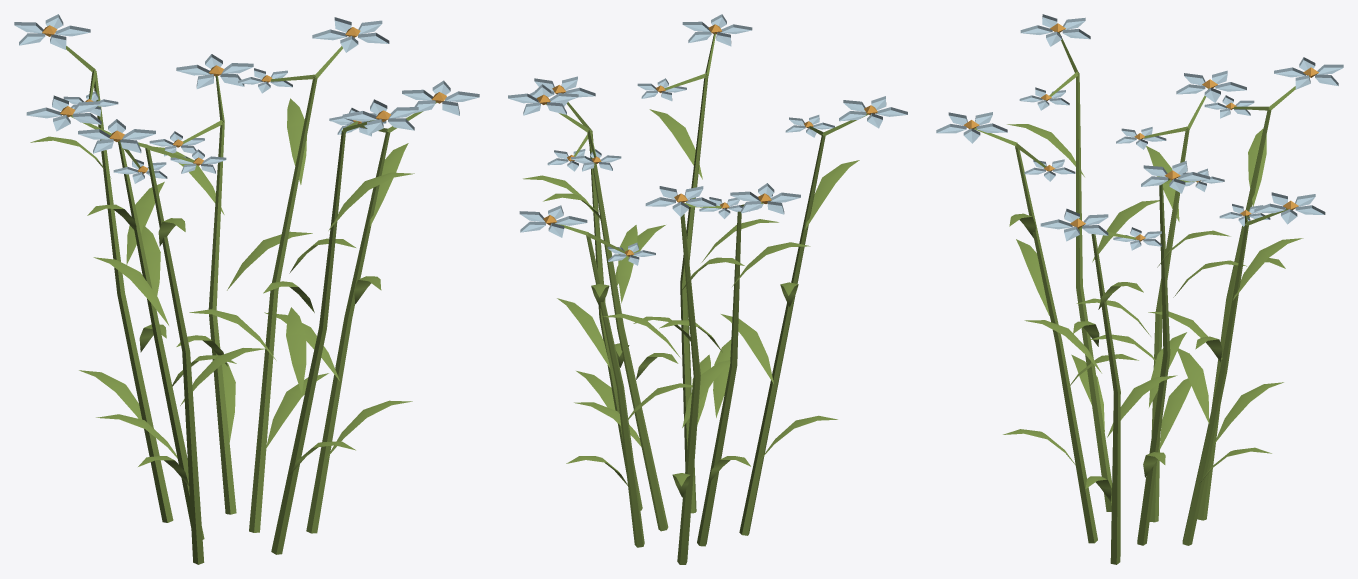
The model's file is crop_flax_mature.glb.
The picture shows the model from 3 angles, left to right: view 1: azimuth 30°, elevation 25°; view 2: azimuth 150°, elevation 25°; view 3: azimuth 270°, elevation 25°; orthographic projection. The views are drawn at different scales.
Parts seen in each view (by area): view 1: flax_leaf_0_0, flax_flower_0_0_petals, flax_flower_0_0_center; view 2: flax_leaf_0_0, flax_flower_0_0_petals, flax_flower_0_0_center; view 3: flax_leaf_0_0, flax_flower_0_0_petals, flax_flower_0_0_center.
Boxes of the visible parts, x1=… form: flax_leaf_0_0: x1=30, y1=46, x2=436, y2=564; flax_flower_0_0_petals: x1=14, y1=14, x2=479, y2=183; flax_flower_0_0_center: x1=42, y1=25, x2=446, y2=173; flax_leaf_0_0: x1=523, y1=33, x2=868, y2=564; flax_flower_0_0_petals: x1=508, y1=14, x2=907, y2=265; flax_flower_0_0_center: x1=537, y1=24, x2=877, y2=256; flax_leaf_0_0: x1=974, y1=32, x2=1303, y2=564; flax_flower_0_0_petals: x1=936, y1=14, x2=1343, y2=250; flax_flower_0_0_center: x1=963, y1=23, x2=1318, y2=241.
Size of the model in its own units: 0.7082 by 0.8157 by 0.6848.
